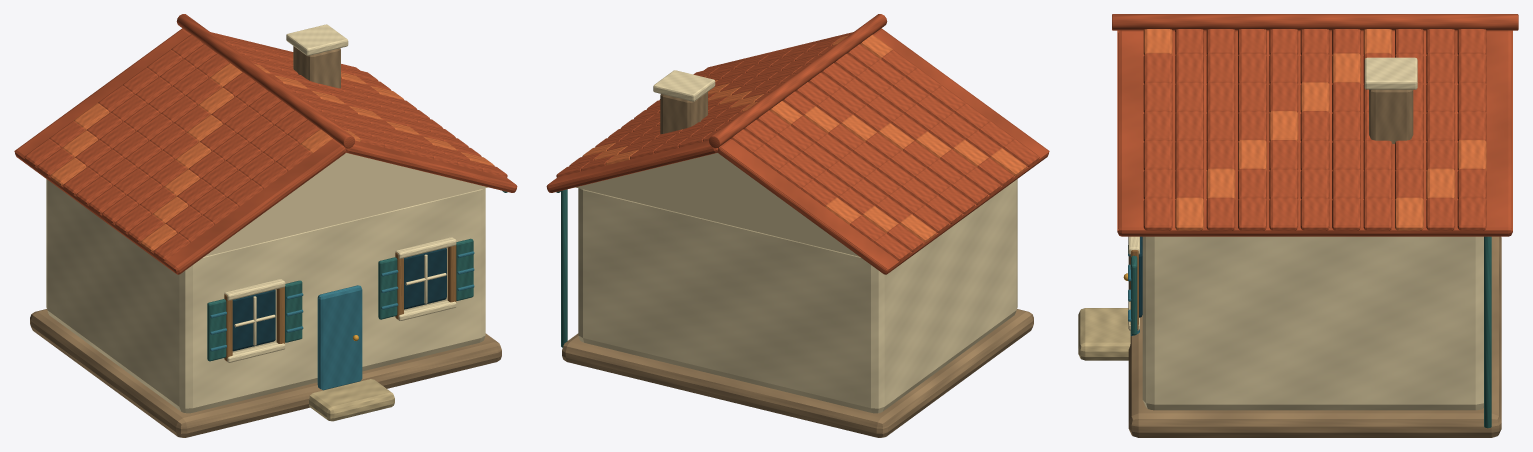
The model's file is Keeper_House_A.fbx.
3 views of the same model, side by side, from view 1: azimuth 30°, elevation 25°; view 2: azimuth 150°, elevation 25°; view 3: azimuth 270°, elevation 25° (orthographic). The views are drawn at different scales.
Visible parts, largest first — view 1: Keeper_House_A; view 2: Keeper_House_A; view 3: Keeper_House_A.
Boxes of the visible parts, bbox=[...] form: Keeper_House_A: bbox=[14, 14, 517, 437]; Keeper_House_A: bbox=[546, 14, 1049, 437]; Keeper_House_A: bbox=[1078, 14, 1518, 437].
Bounding box in the file's own units: 868 × 790 × 655.
